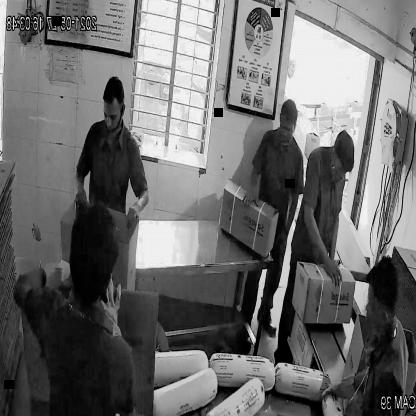no_goggles: (102, 102, 126, 127)
